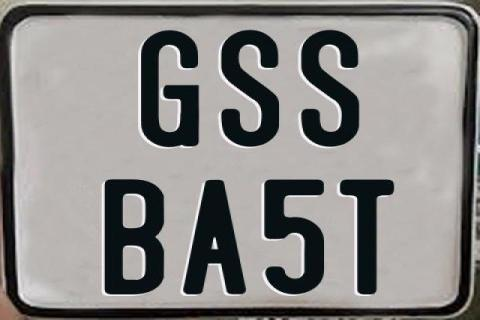0: (263, 177, 327, 293)
A: (180, 178, 245, 294)
B: (104, 178, 168, 298)
G: (141, 29, 199, 149)
S: (299, 29, 361, 147), (219, 27, 278, 144)
T: (338, 178, 394, 296)
